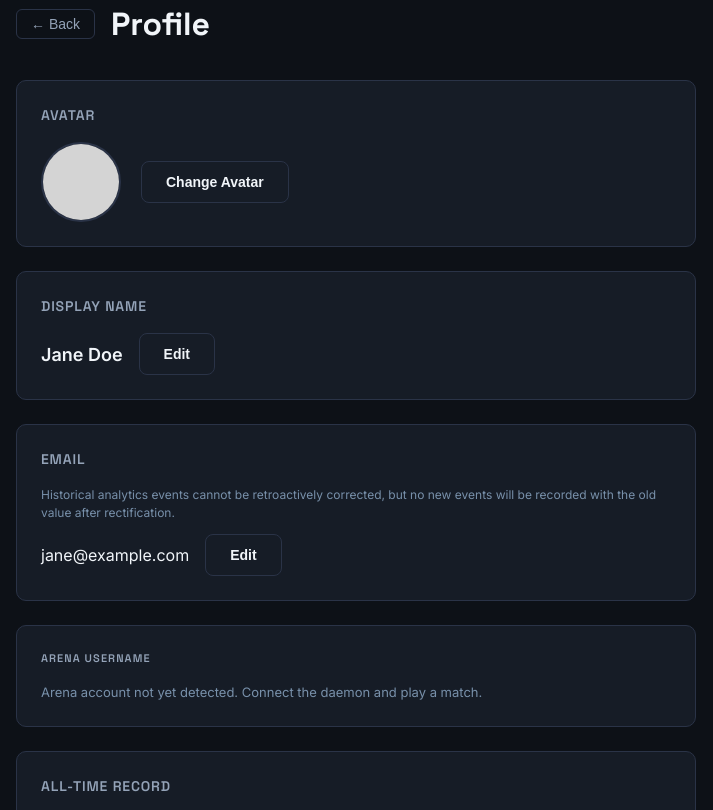
Test: Profile — display name editing (AC2) › cancels edit and returns to display mode on Cancel
Click the button with test id "profile-edit-name-button" at (177, 354), box top-left (139, 333), bottom-right (215, 375)
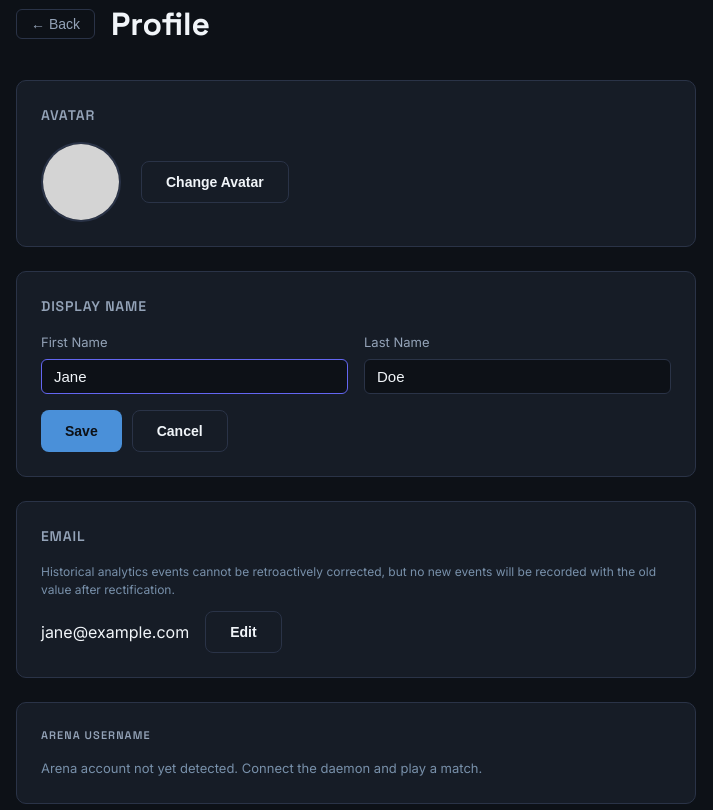
Expected: the element with test id "profile-name-form" is shown, top-left (41, 333), bottom-right (671, 452)
Click the button with test id "profile-cancel-name-button" at (180, 430), box top-left (132, 410), bottom-right (228, 452)
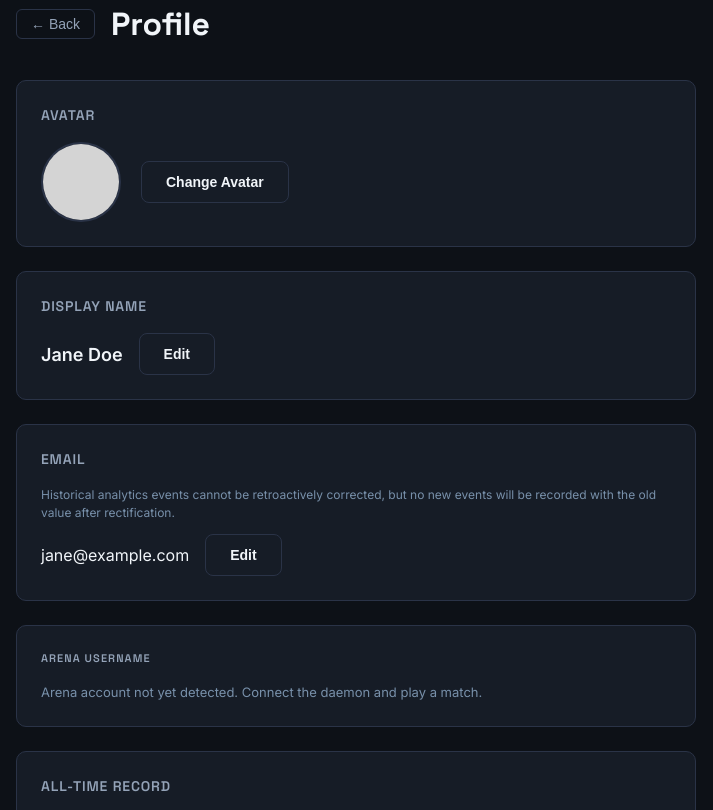
Expected: the element with test id "profile-name-display" showing "Jane Doe Edit" is shown, top-left (41, 333), bottom-right (215, 375)
